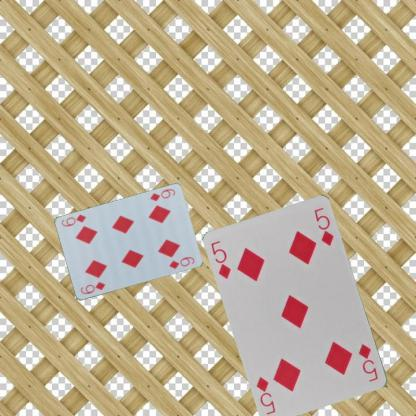5d: (208, 238, 233, 280), (356, 341, 380, 384)
6d: (78, 279, 106, 295), (148, 186, 176, 202)
